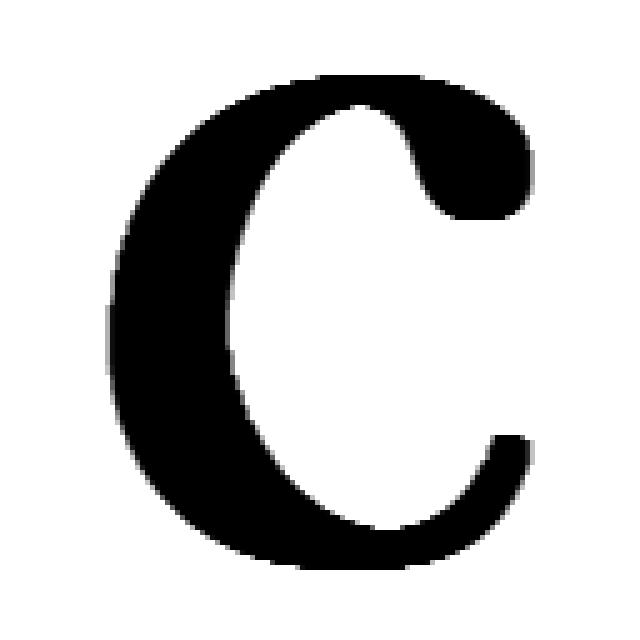C: (110, 75, 535, 575)
